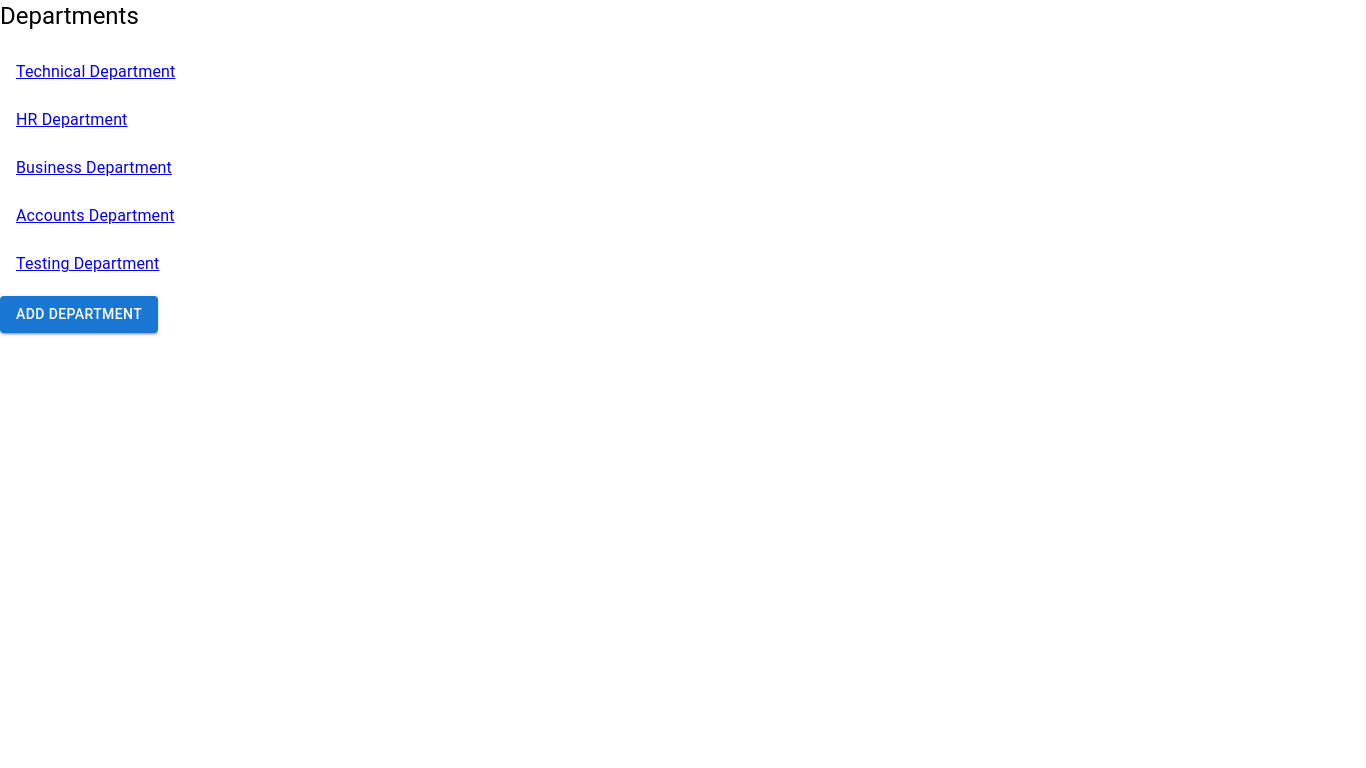
Scenario: Department Management - Task › Adding an employee with missing designation
This screenshot has width=1366, height=768.
Click the link "Technical Department".
click(96, 72)  # box [16,62,175,81]
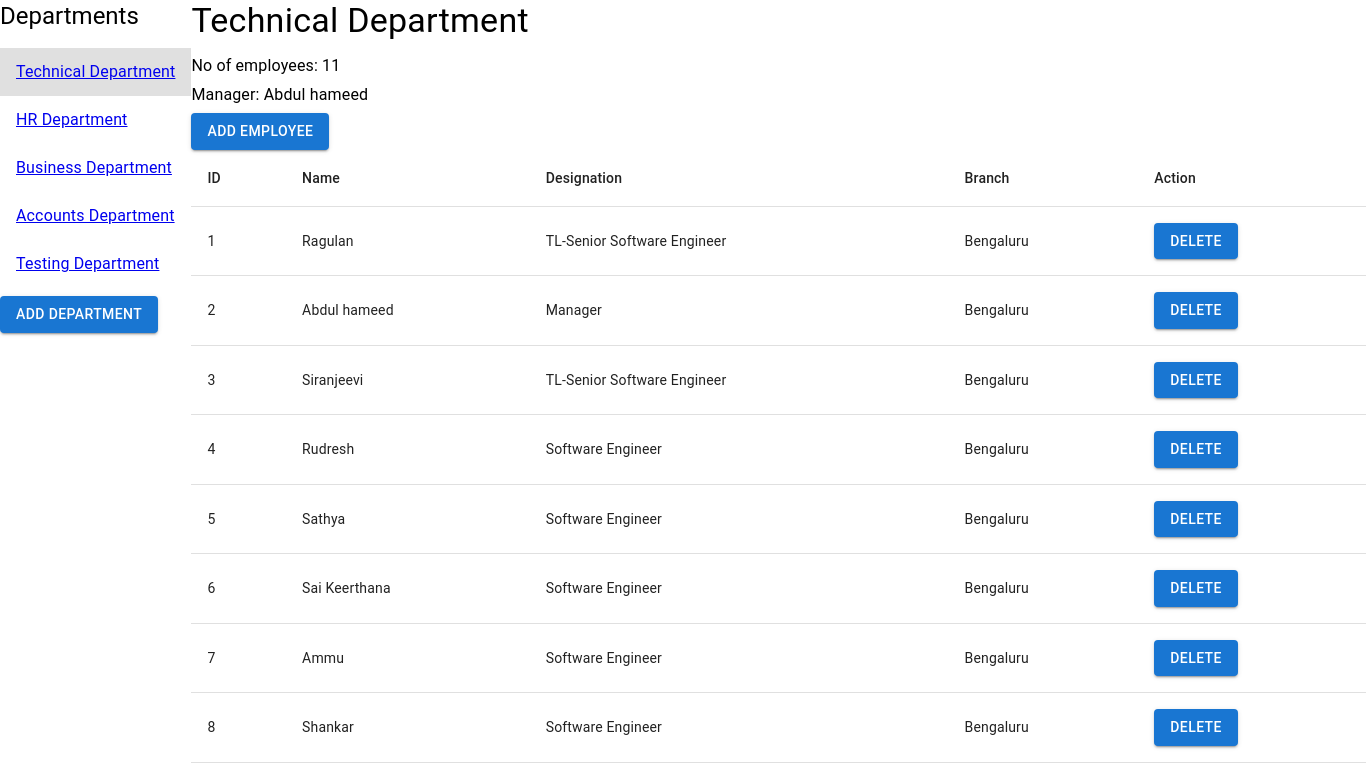
Click the button "Add Employee".
click(260, 132)  # box [191,113,329,150]
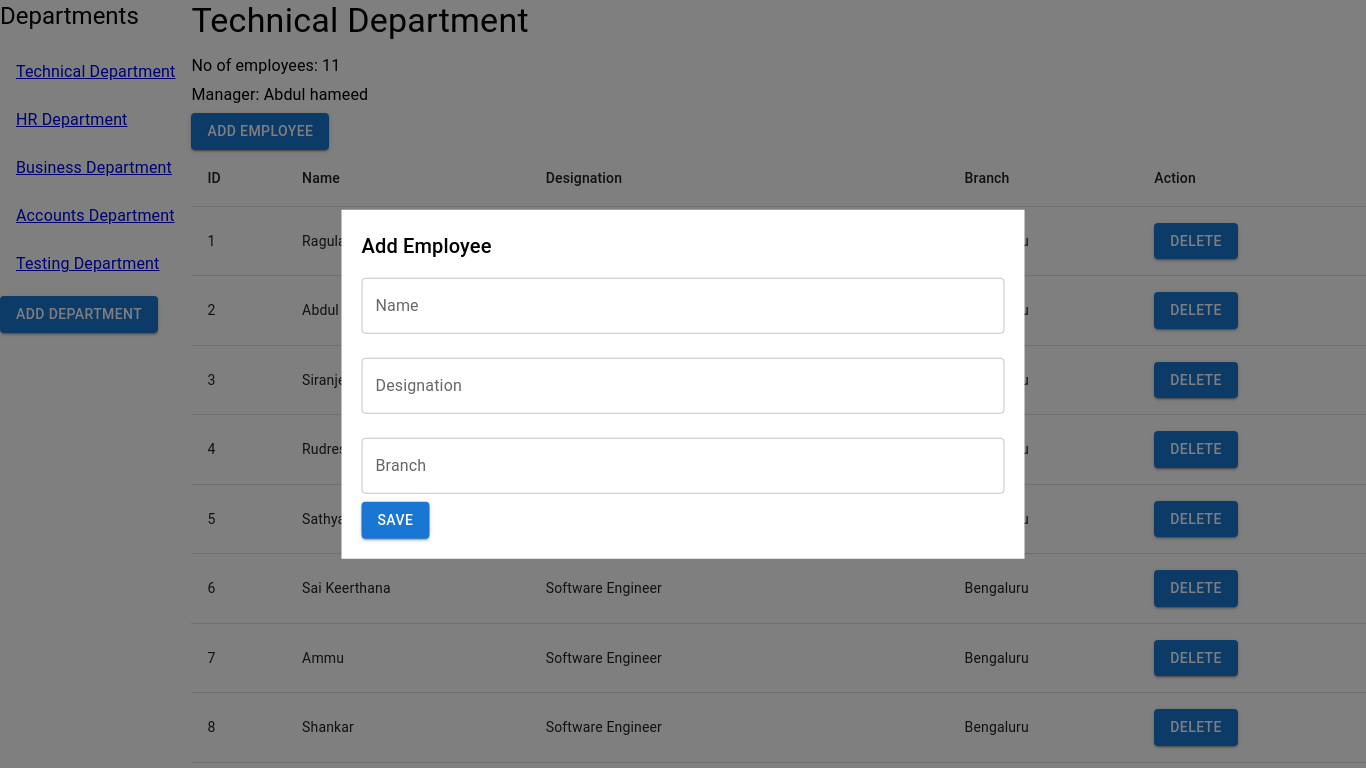
Check: the field named "name" is shown
Type "Sathya" into the field named "name".
click(684, 306); type("Sathya")  # box [362,278,1005,334]
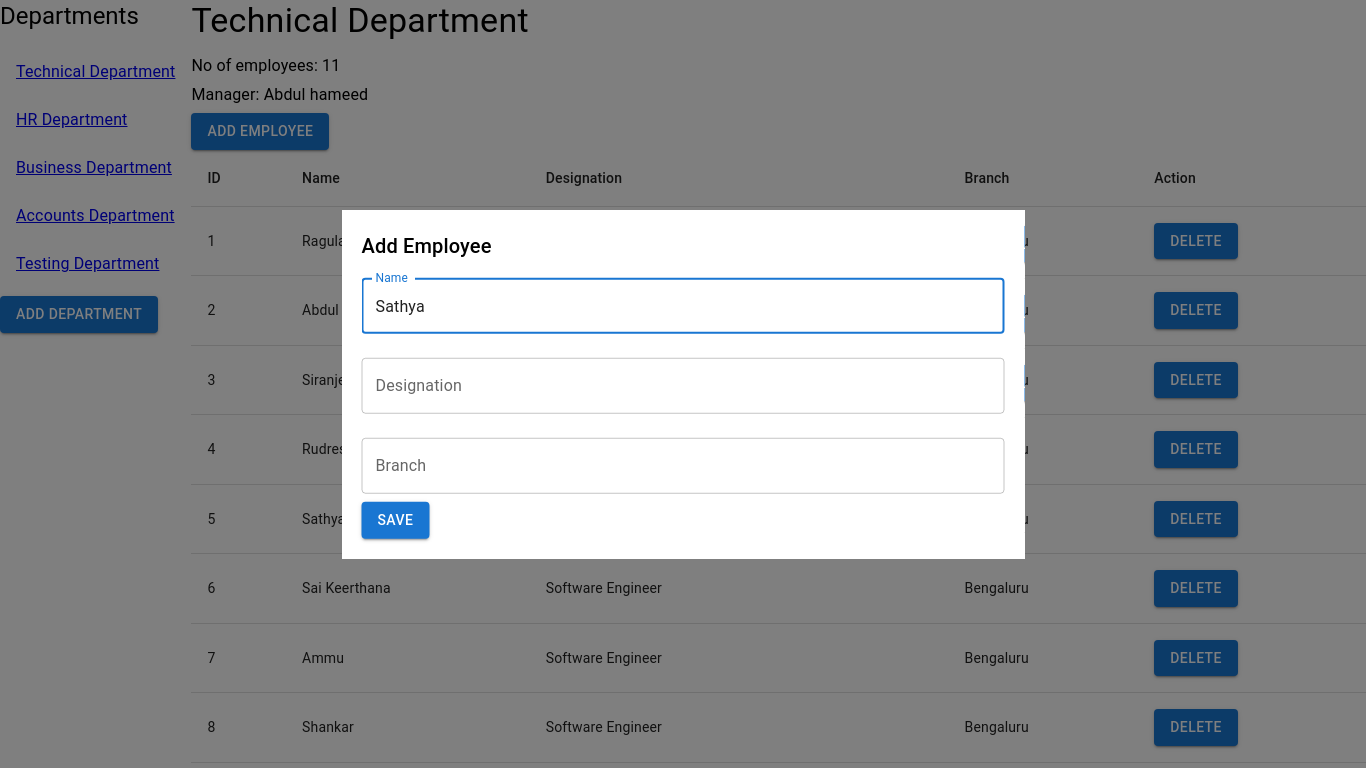
Check: the field named "branch" is shown
Type "Bengaluru" into the field named "branch".
click(684, 466); type("Bengaluru")  # box [362,438,1005,494]
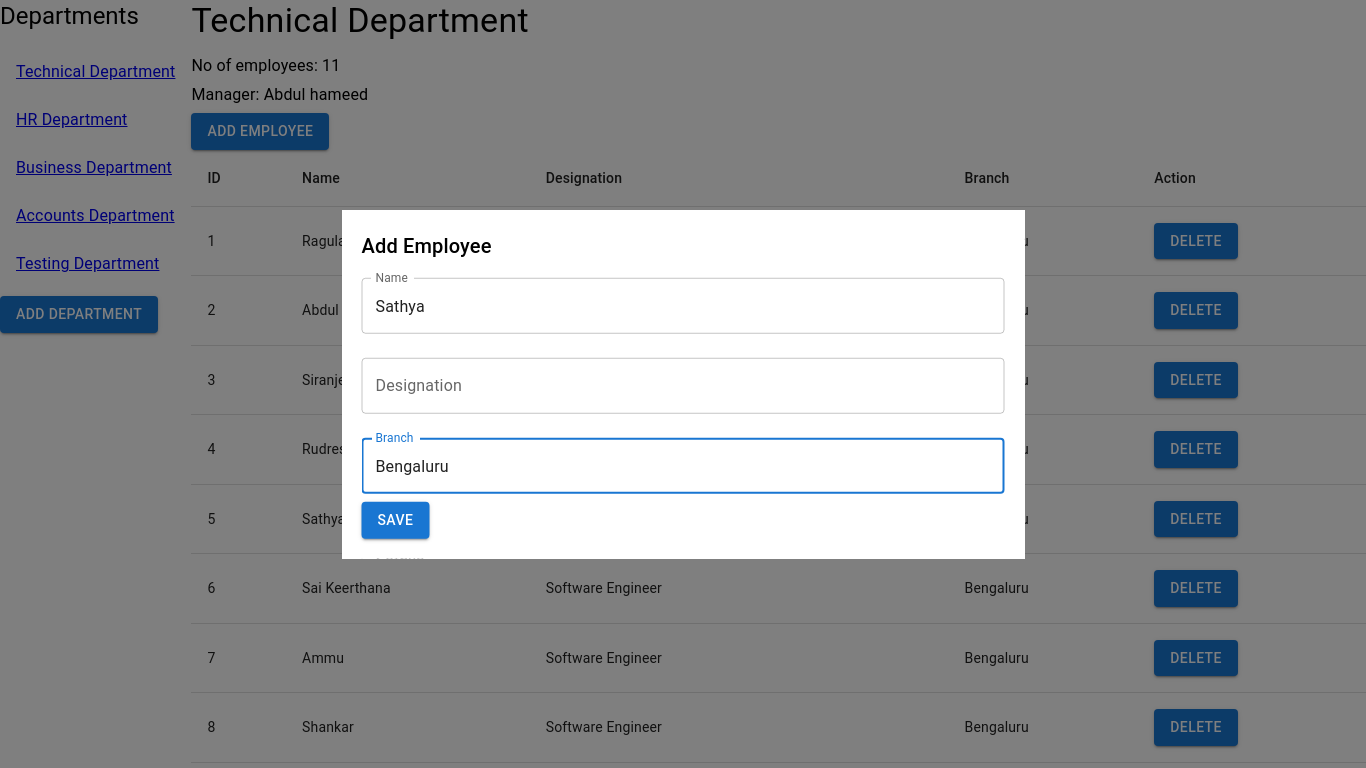
Click the button "Save".
click(396, 521)  # box [362,502,430,539]
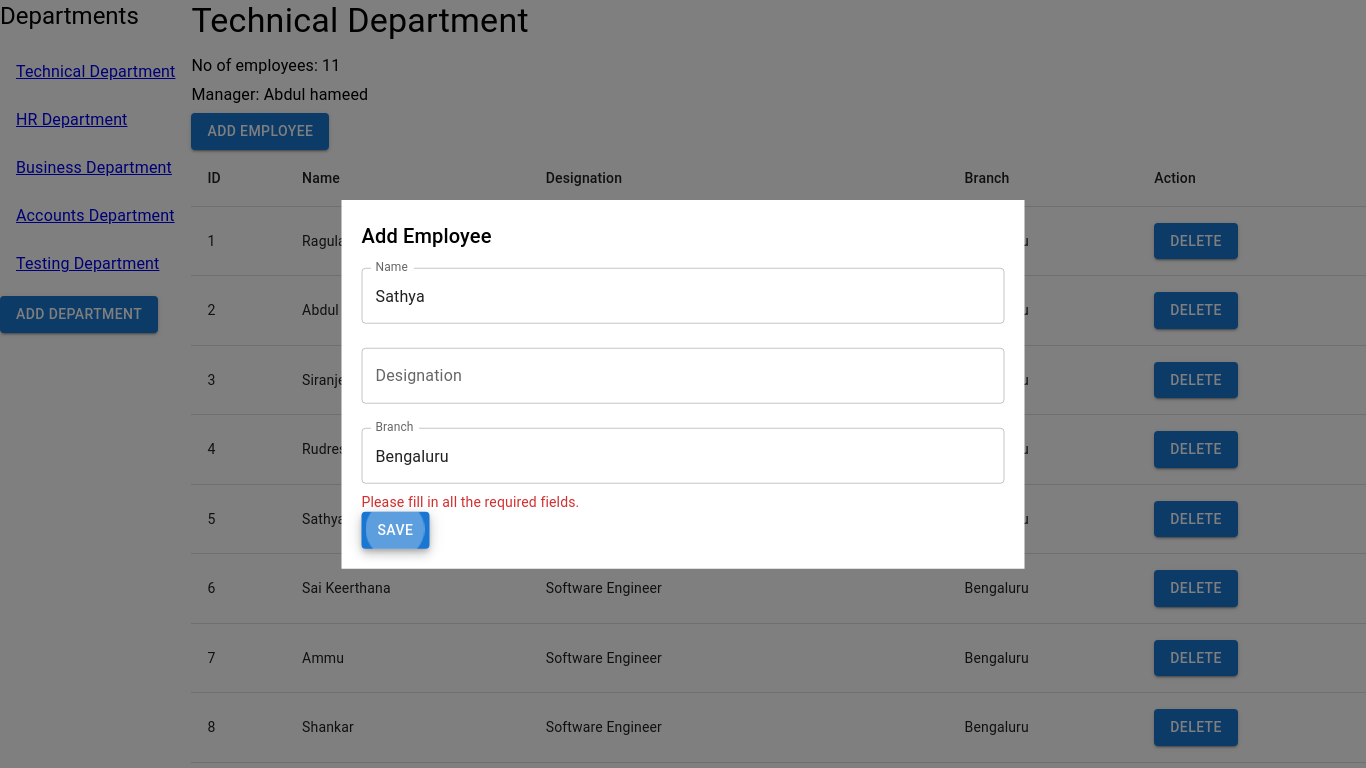
Check: the text "Please fill in all the required fields." is shown, box [362,494,579,510]
